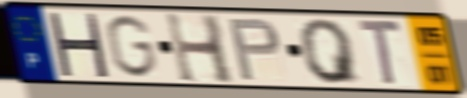G: (102, 13, 160, 80)
H: (162, 10, 238, 87), (45, 10, 111, 80)
P: (226, 16, 284, 83)
Q: (296, 17, 364, 86)
T: (355, 16, 405, 89)
